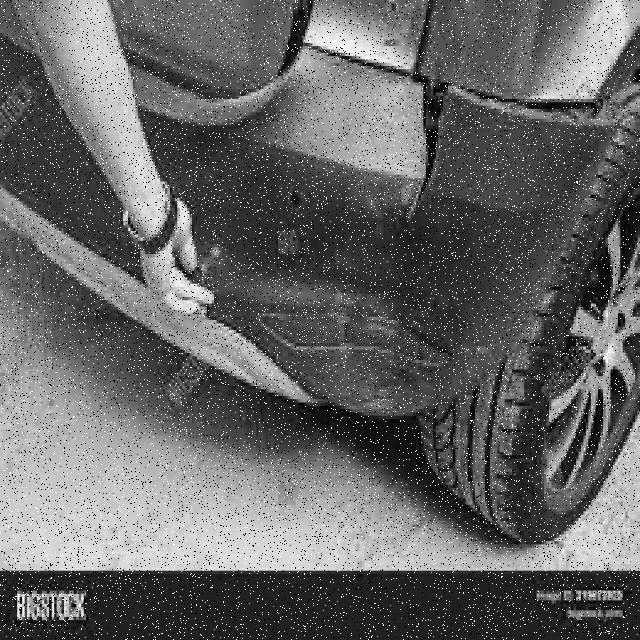rear-bumper-dent: (72, 20, 613, 422)
